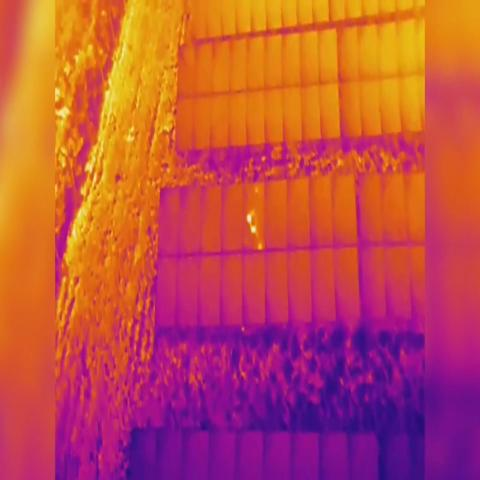fault: (244, 213, 252, 224), (251, 226, 257, 236), (258, 242, 263, 251)
